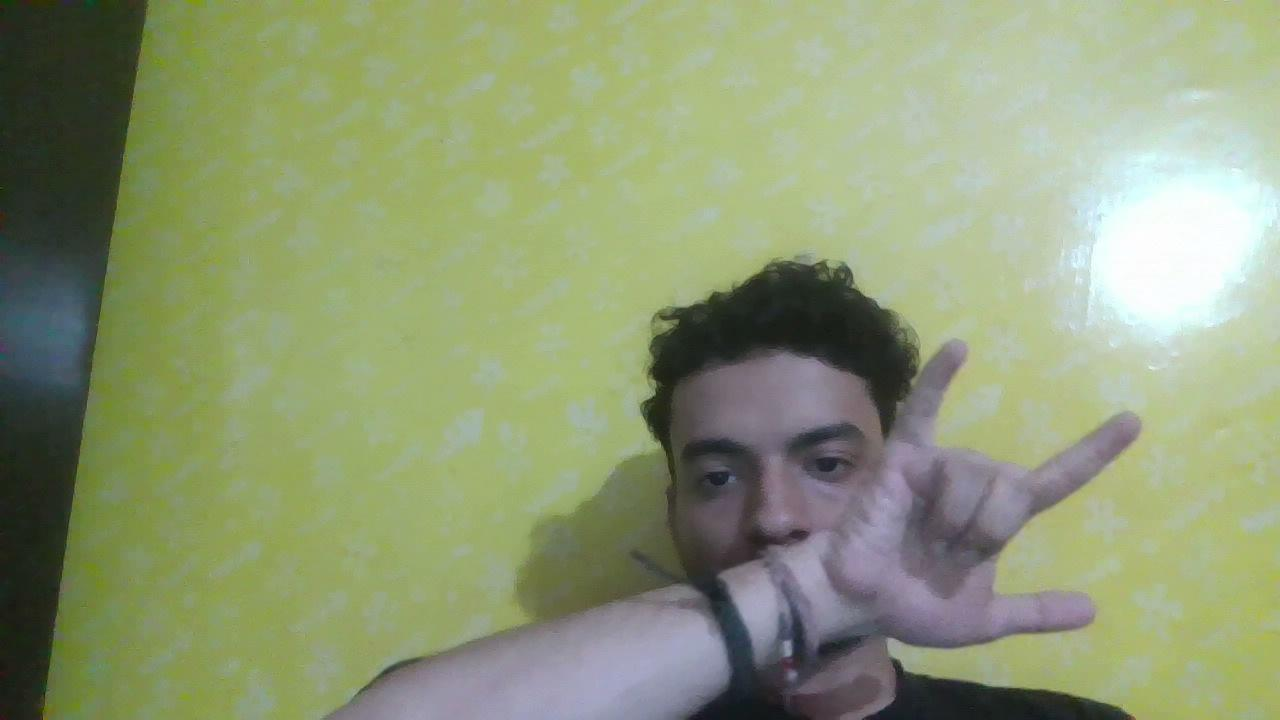Loveyou: (764, 322, 1185, 688)
